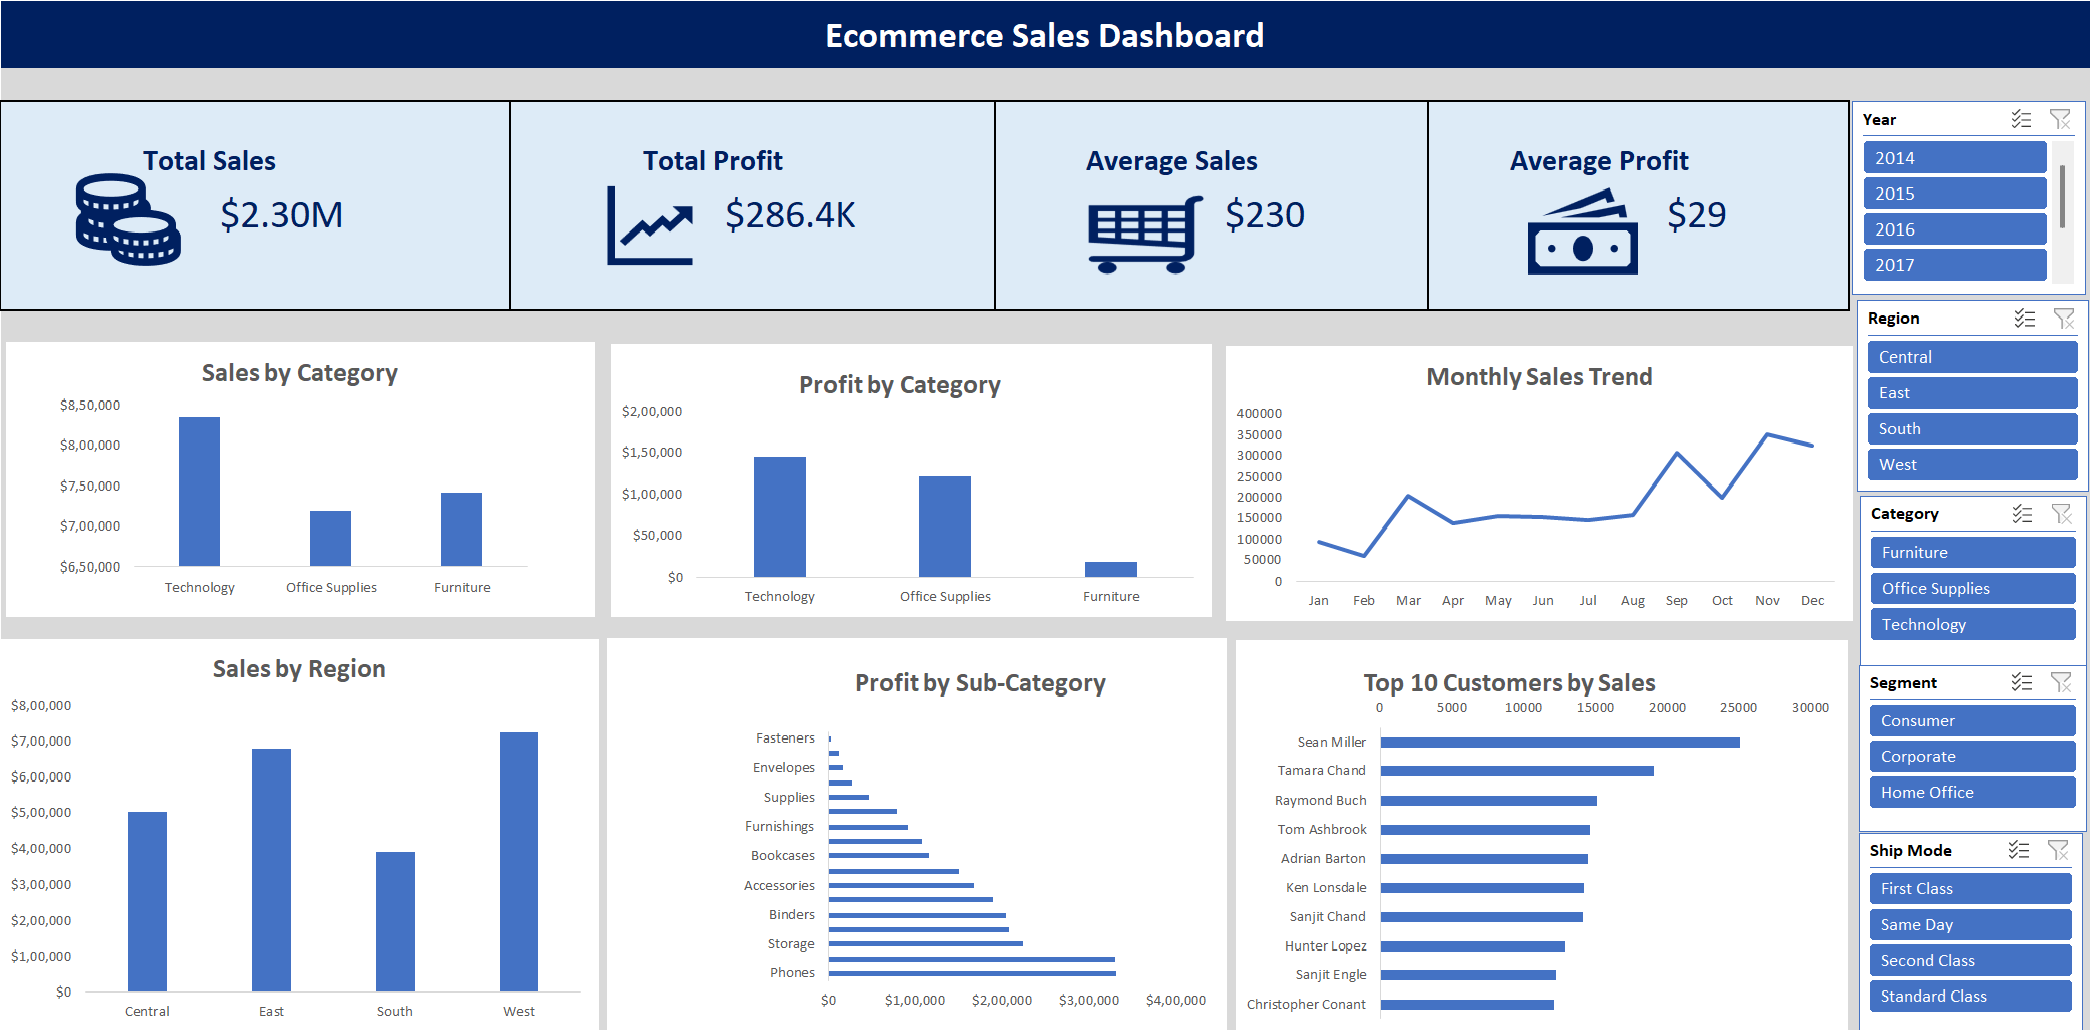

What the dashboard file says about the page in this screenshot:
{"tool":"powerbi","page":{"name":" Sales Dashboard","canvas":[1280,720],"ordinal":0},"visuals":[{"type":"textbox","box":[0,17.4,1280,74.6],"z":0},{"type":"card","fields":{"Values":["superstore_cleaned.Total Sales"]},"box":[6.9,70,306,107],"z":1000},{"type":"card","fields":{"Values":["superstore_cleaned.Total Profit"]},"box":[279.9,65.9,251.1,111.1],"z":2000},{"type":"card","fields":{"Values":["superstore_cleaned.Average Sales"]},"box":[499.5,70,258,111.1],"z":3000},{"type":"card","fields":{"Values":["superstore_cleaned.Average Profit"]},"box":[757.5,68.6,278.6,111.1],"z":4000},{"type":"lineChart","title":"Monthly Sales Trend","fields":{"Category":["superstore_cleaned.Order Month"],"Y":["superstore_cleaned.Total Sales"]},"box":[686.1,180.6,349.9,234.6],"z":5000},{"type":"clusteredColumnChart","title":" Sales by Category","fields":{"Category":["superstore_cleaned.Category"],"Y":["superstore_cleaned.Total Sales"]},"box":[0,179.2,325.2,234.6],"z":6000},{"type":"clusteredBarChart","title":" Sales by Region","fields":{"Category":["superstore_cleaned.Region"],"Y":["superstore_cleaned.Total Sales"]},"box":[9.6,413.9,279.9,303.3],"z":7000},{"type":"clusteredColumnChart","title":"Profit by Category","fields":{"Category":["superstore_cleaned.Category"],"Y":["superstore_cleaned.Total Profit"]},"box":[312.9,179.2,373.2,234.6],"z":8000},{"type":"clusteredBarChart","title":"Top 10 Customers by Sales","fields":{"Category":["superstore_cleaned.Customer Name"],"Y":["superstore_cleaned.Total Sales"]},"box":[666.9,413.9,381.5,297.8],"z":9000},{"type":"clusteredBarChart","title":"Profit  by Sub-Category","fields":{"Category":["superstore_cleaned.Sub-Category"],"Y":["superstore_cleaned.Total Profit"]},"box":[289.5,416.6,377.4,300.5],"z":10000},{"type":"slicer","fields":{"Values":["superstore_cleaned.Order Year"]},"box":[1036,49.4,214.1,205.8],"z":11000},{"type":"slicer","fields":{"Values":["superstore_cleaned.Region"]},"box":[1038.8,148.8,233.8,146.2],"z":12000},{"type":"slicer","fields":{"Values":["superstore_cleaned.Segment"]},"box":[1040,295,232.5,120],"z":13000},{"type":"slicer","fields":{"Values":["superstore_cleaned.Category"]},"box":[1040,420,232.5,122.5],"z":14000},{"type":"slicer","fields":{"Values":["superstore_cleaned.Ship Mode"]},"box":[1040.1,542,231.9,159.2],"z":15000},{"type":"textbox","box":[992.1,671,56.3,30.2],"z":16000}]}

Visuals, with their boxes on the page's 1280x720 design canvas (x1, y1, x2, y2). These are canvas units, not pixel positions in the 2093x1030 screenshot, which may show the page scaled, cropped or inside an application window:
textbox: detection(0, 17, 1280, 92)
card - superstore_cleaned.Total Sales: detection(7, 70, 313, 177)
card - superstore_cleaned.Total Profit: detection(280, 66, 531, 177)
card - superstore_cleaned.Average Sales: detection(500, 70, 758, 181)
card - superstore_cleaned.Average Profit: detection(758, 69, 1036, 180)
"Monthly Sales Trend" lineChart: detection(686, 181, 1036, 415)
" Sales by Category" clusteredColumnChart: detection(0, 179, 325, 414)
" Sales by Region" clusteredBarChart: detection(10, 414, 290, 717)
"Profit by Category" clusteredColumnChart: detection(313, 179, 686, 414)
"Top 10 Customers by Sales" clusteredBarChart: detection(667, 414, 1048, 712)
"Profit  by Sub-Category" clusteredBarChart: detection(290, 417, 667, 717)
slicer - superstore_cleaned.Order Year: detection(1036, 49, 1250, 255)
slicer - superstore_cleaned.Region: detection(1039, 149, 1273, 295)
slicer - superstore_cleaned.Segment: detection(1040, 295, 1272, 415)
slicer - superstore_cleaned.Category: detection(1040, 420, 1272, 542)
slicer - superstore_cleaned.Ship Mode: detection(1040, 542, 1272, 701)
textbox: detection(992, 671, 1048, 701)
